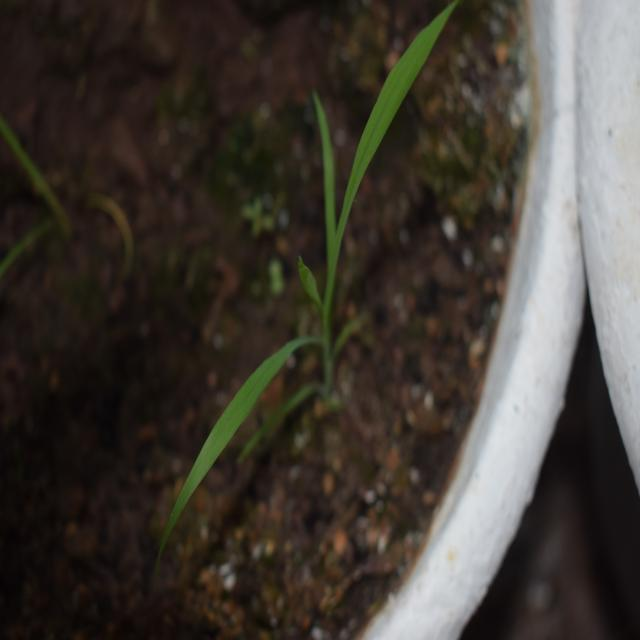barnyard_grass: (132, 43, 470, 467)
